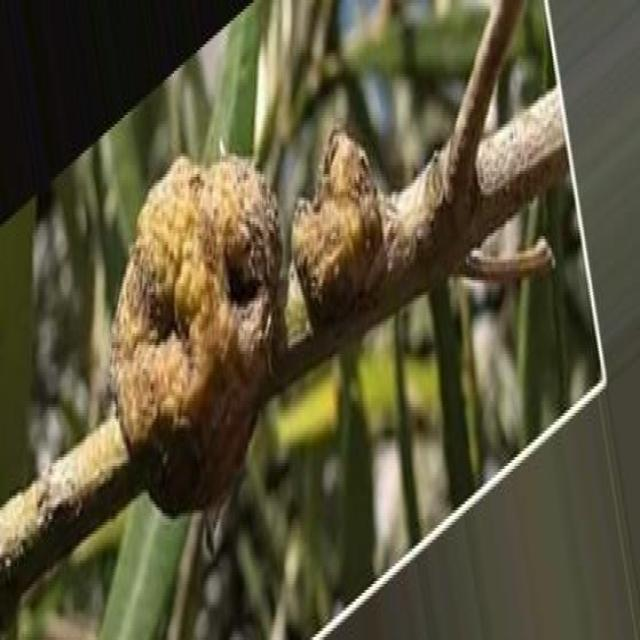Tuberculosis: (111, 156, 286, 513), (293, 127, 377, 330)
